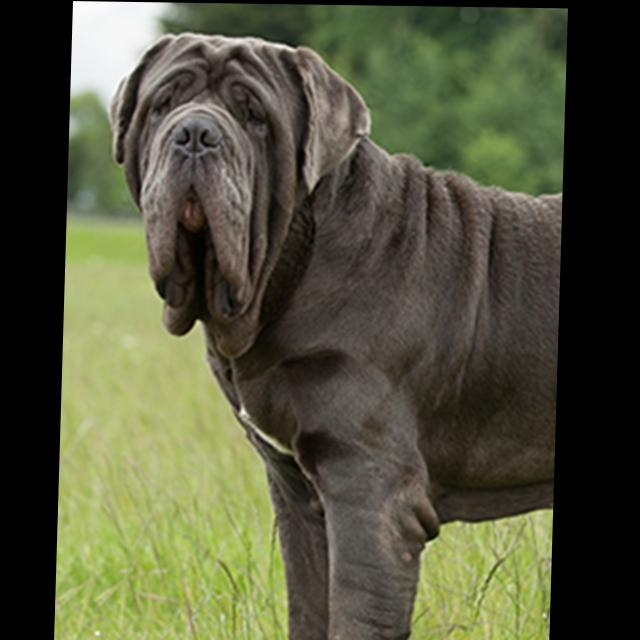mastino_napoletano: (95, 29, 567, 640)
